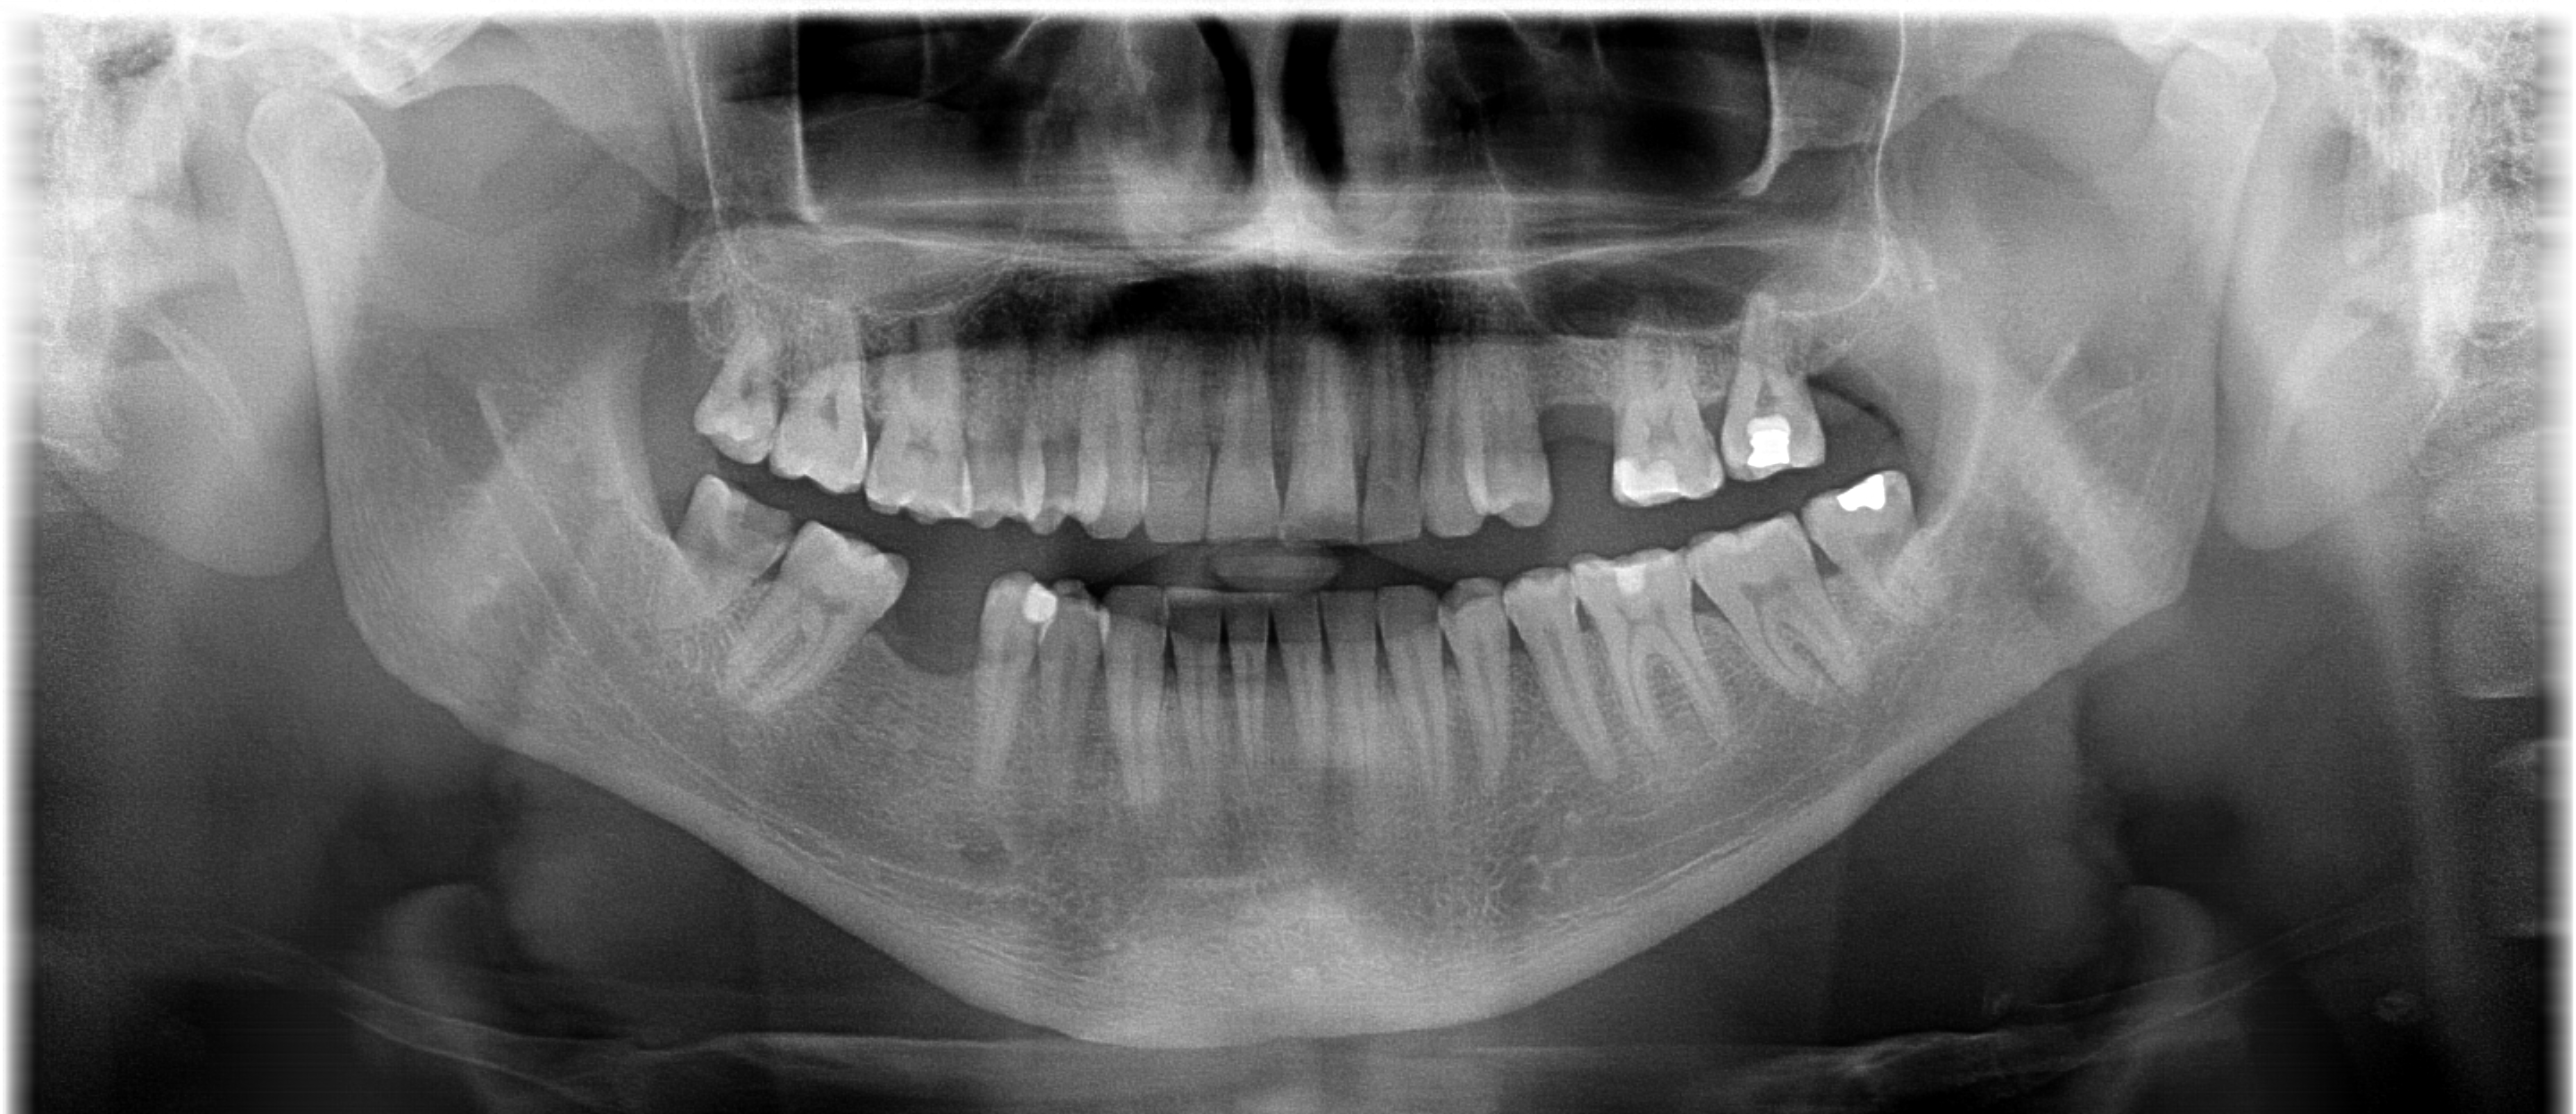apinamiento: (923, 414, 1158, 545)
cordal: (1796, 449, 1998, 654), (637, 458, 815, 642)
zona_dentula: (861, 534, 992, 753), (1518, 309, 1633, 529)
